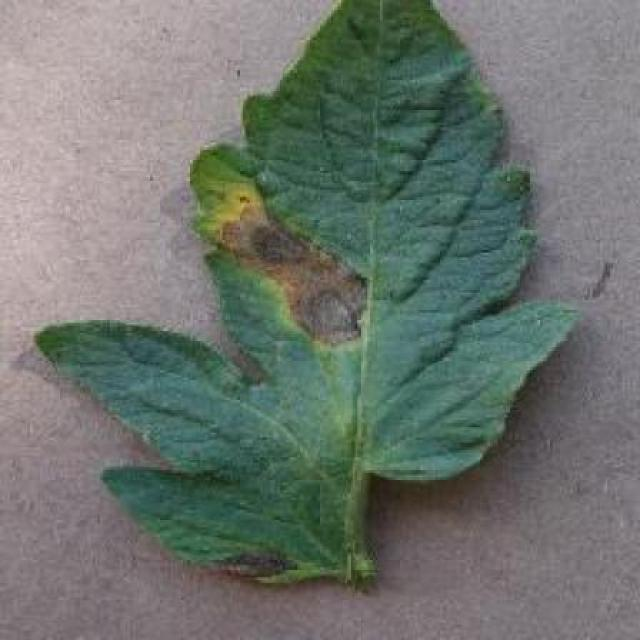Early Blight: (35, 0, 584, 590)
